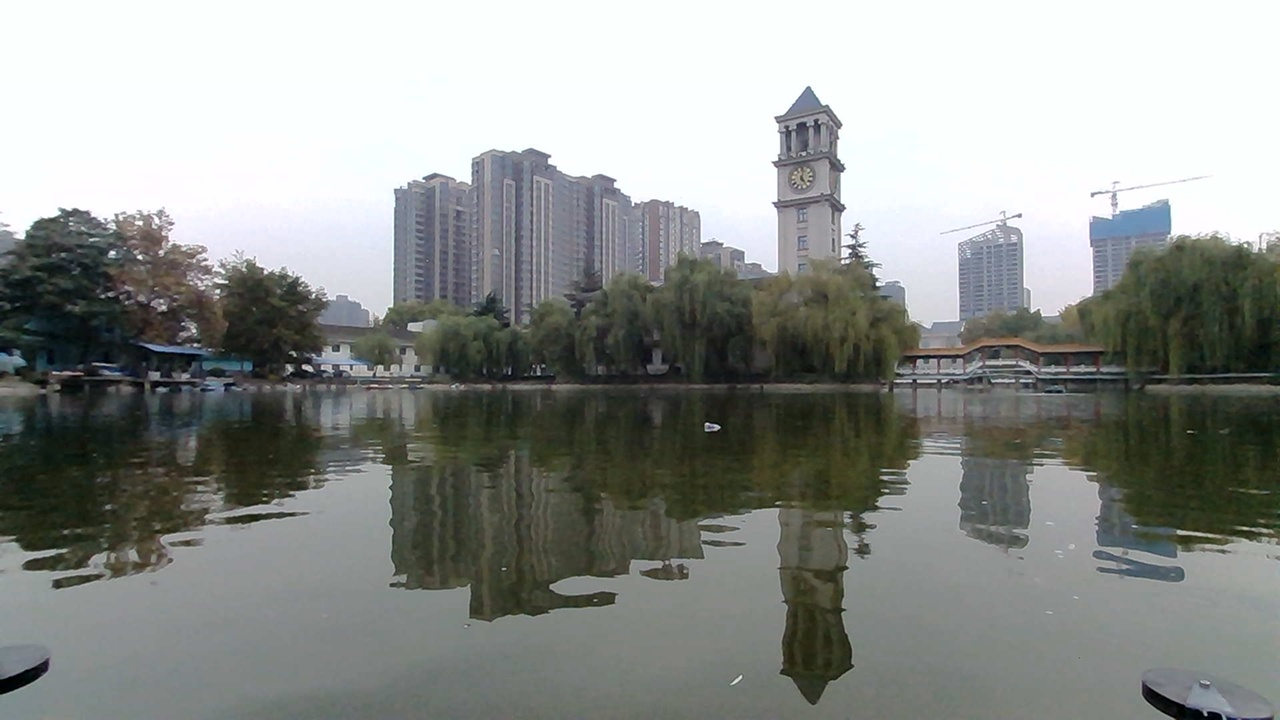bottle: (699, 409, 738, 439)
